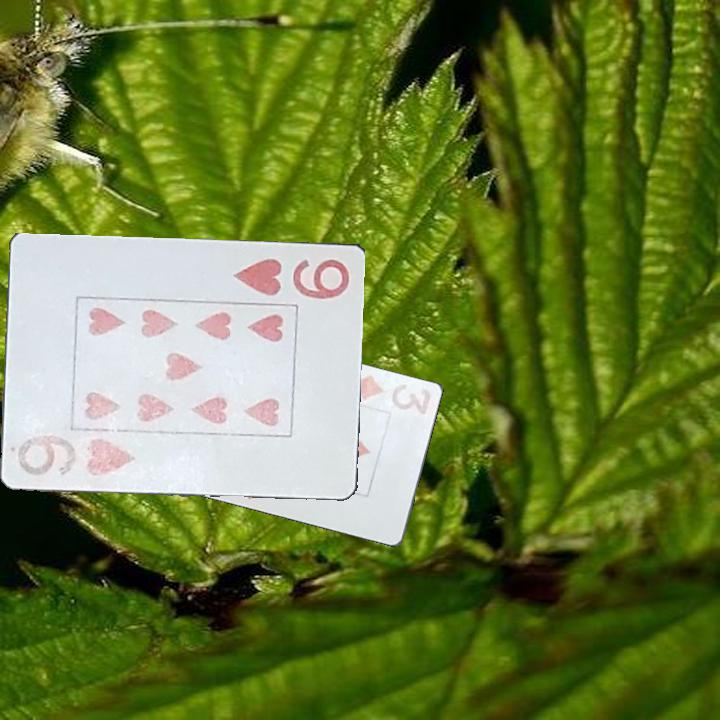3d: (347, 371, 434, 420)
9h: (10, 428, 138, 480), (228, 253, 353, 302)
